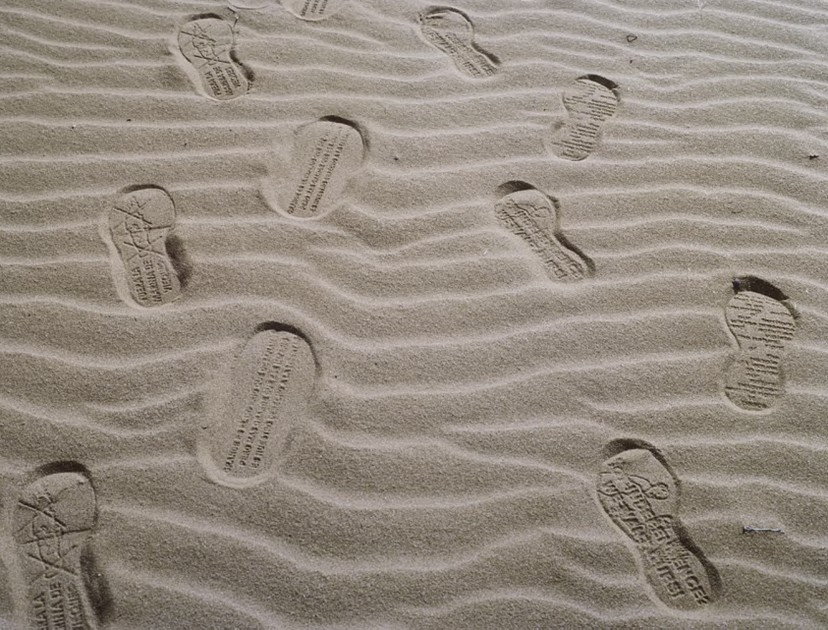human_foot_print: (585, 435, 723, 621), (5, 440, 124, 630), (218, 306, 323, 494), (98, 173, 200, 332), (493, 169, 599, 314), (274, 114, 381, 222), (719, 260, 795, 403), (163, 9, 256, 105), (555, 59, 628, 162), (416, 1, 502, 86)
